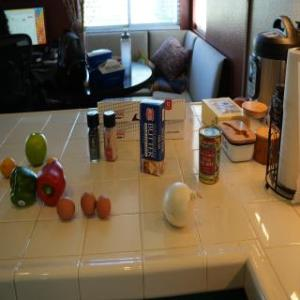bell_pepper: (36, 164, 68, 206), (10, 166, 34, 206)
egg: (57, 196, 76, 222), (97, 194, 112, 220), (79, 190, 94, 216)
onion: (161, 181, 201, 229)
